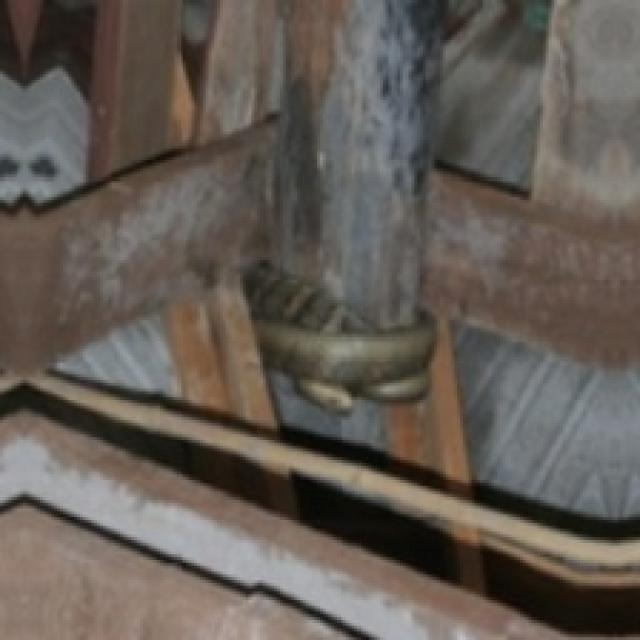king cobra: (249, 266, 434, 411)
